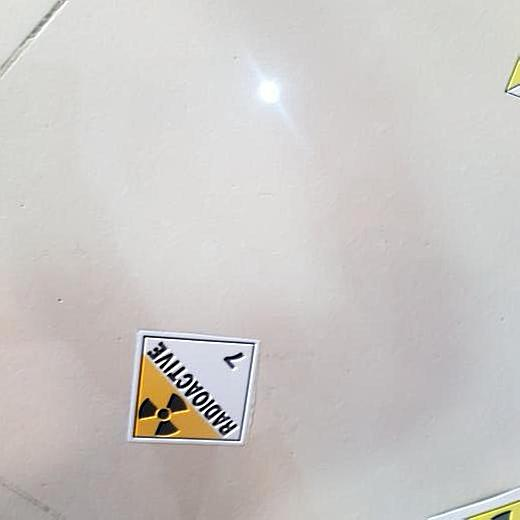radioactive: (133, 333, 263, 452)
